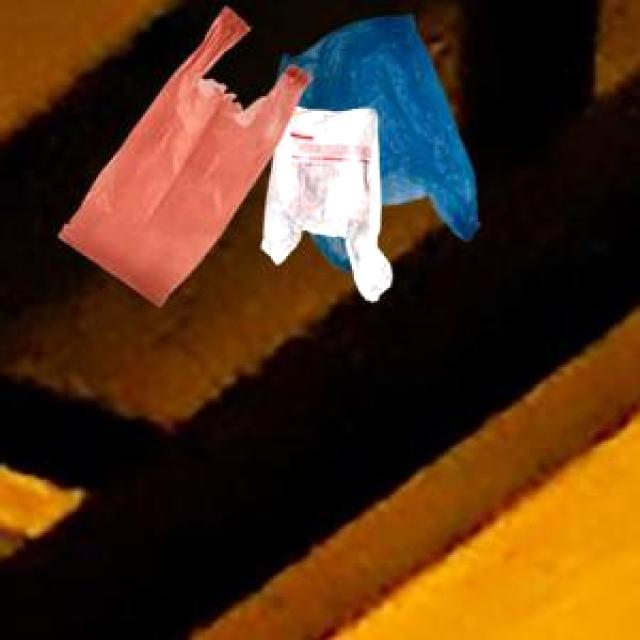Plastic_Bag: (56, 5, 308, 302), (276, 14, 477, 268), (260, 104, 390, 298)
